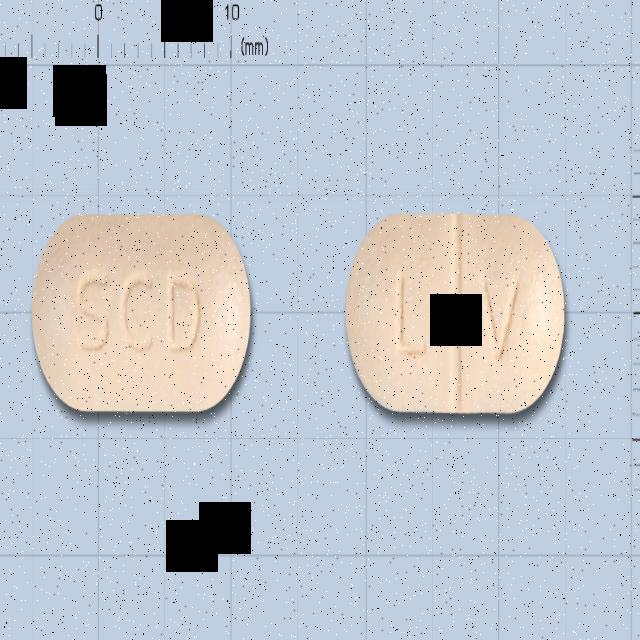Levostar -500mg: (32, 213, 252, 413), (345, 215, 565, 414)
